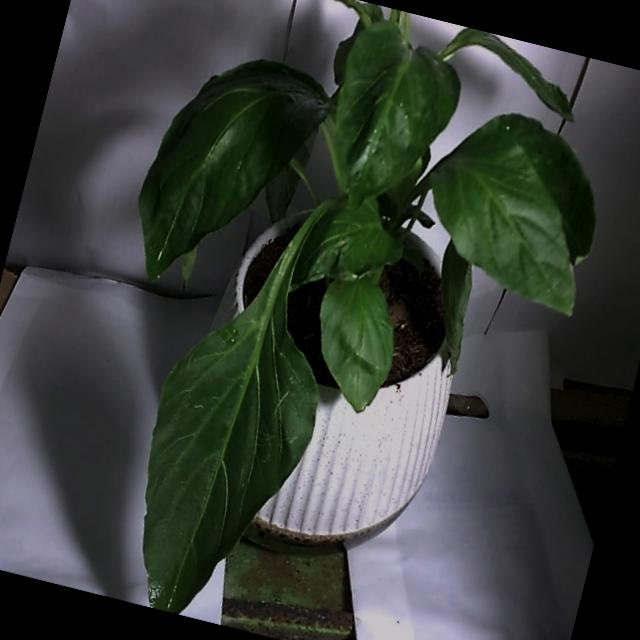Leaf: (110, 254, 346, 635), (112, 30, 338, 309), (408, 99, 616, 318), (313, 12, 474, 224)
